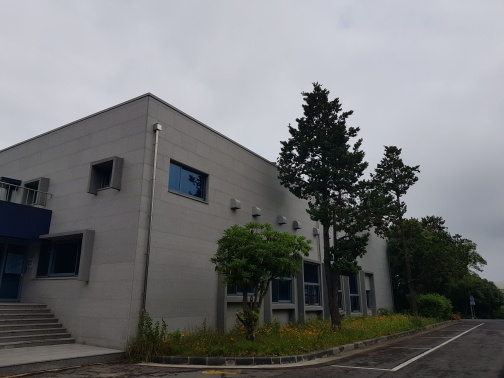College of Social Sciences: (18, 101, 398, 327)
